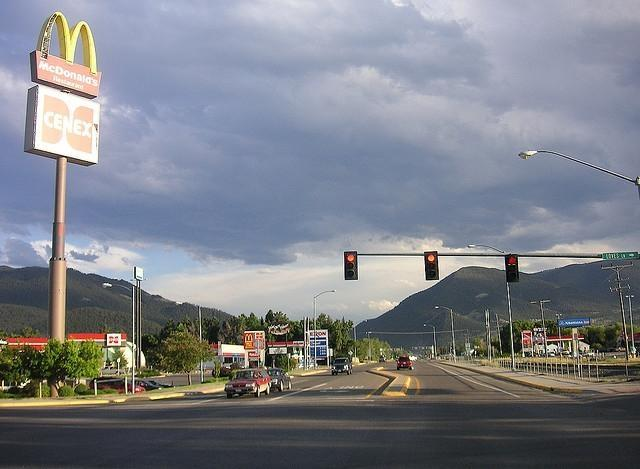car: (224, 368, 272, 399), (89, 376, 132, 394), (268, 368, 294, 391), (134, 379, 164, 393), (397, 356, 412, 371), (150, 380, 175, 388), (379, 354, 387, 362)
truck: (331, 357, 354, 376), (396, 356, 412, 370)
